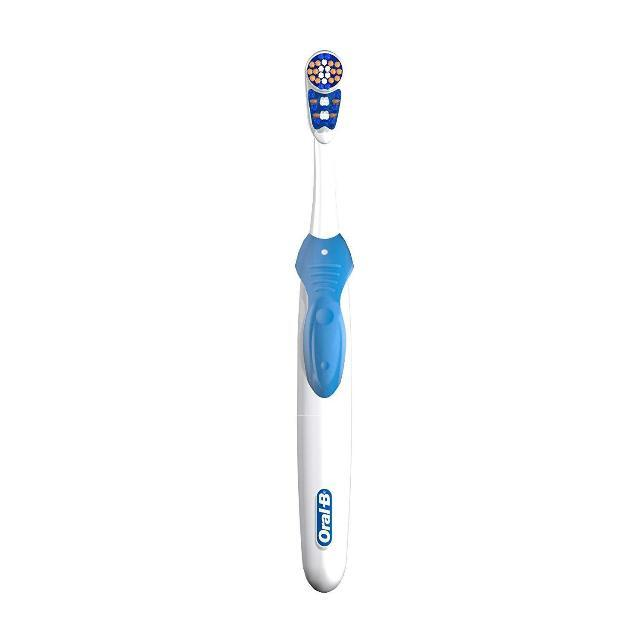toothbrush: (271, 6, 377, 602)
